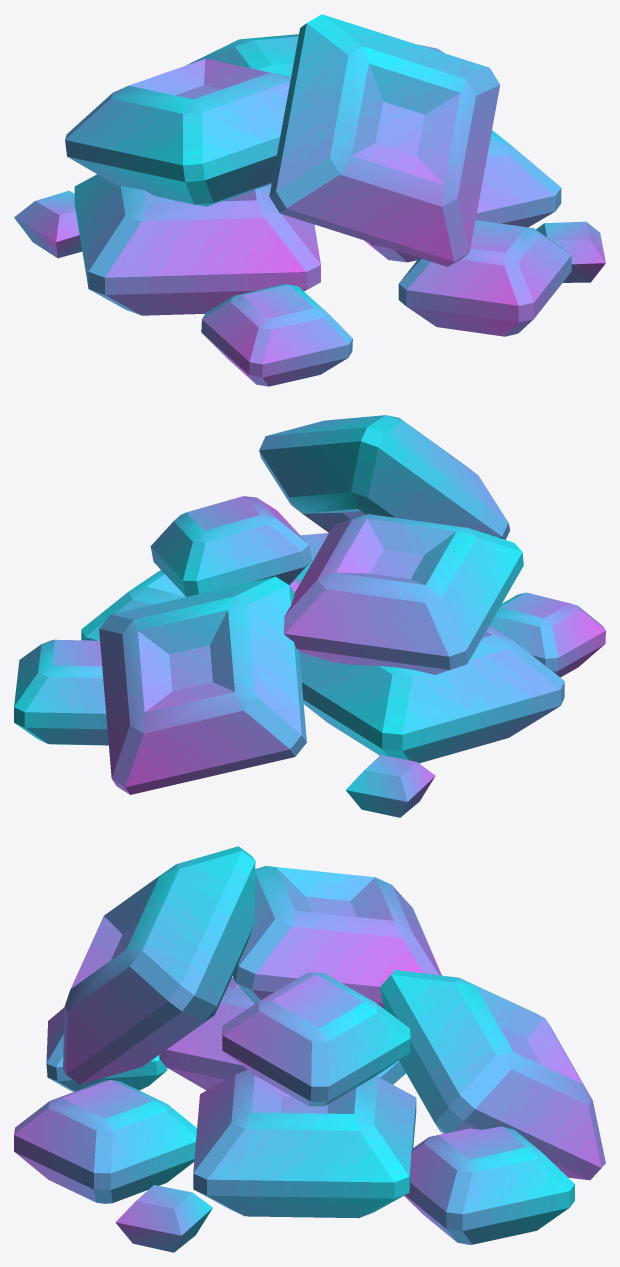
File: gems-pile-large.glb
3 views of the same model, one above another, from view 1: azimuth 30°, elevation 25°; view 2: azimuth 150°, elevation 25°; view 3: azimuth 270°, elevation 25° (orthographic). The views are drawn at different scales.
Parts seen in each view (by area): view 1: Gems_Pile_Large; view 2: Gems_Pile_Large; view 3: Gems_Pile_Large.
Boxes of the visible parts, left/top/right/bottom form: Gems_Pile_Large: left=14, top=14, right=605, bottom=386; Gems_Pile_Large: left=14, top=415, right=605, bottom=817; Gems_Pile_Large: left=14, top=846, right=605, bottom=1252.
Bounding box in the file's own units: 1.35 × 0.7591 × 1.42.
Materials: 1 (1 with a texture image).
